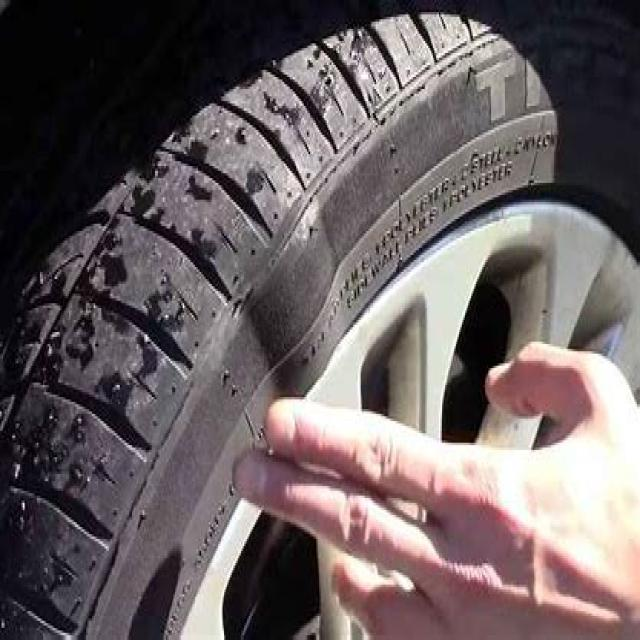Bulge: (231, 178, 362, 399)
